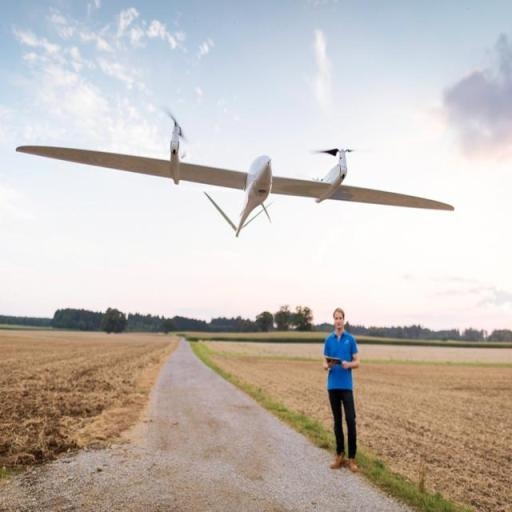uav: (11, 117, 458, 248)
